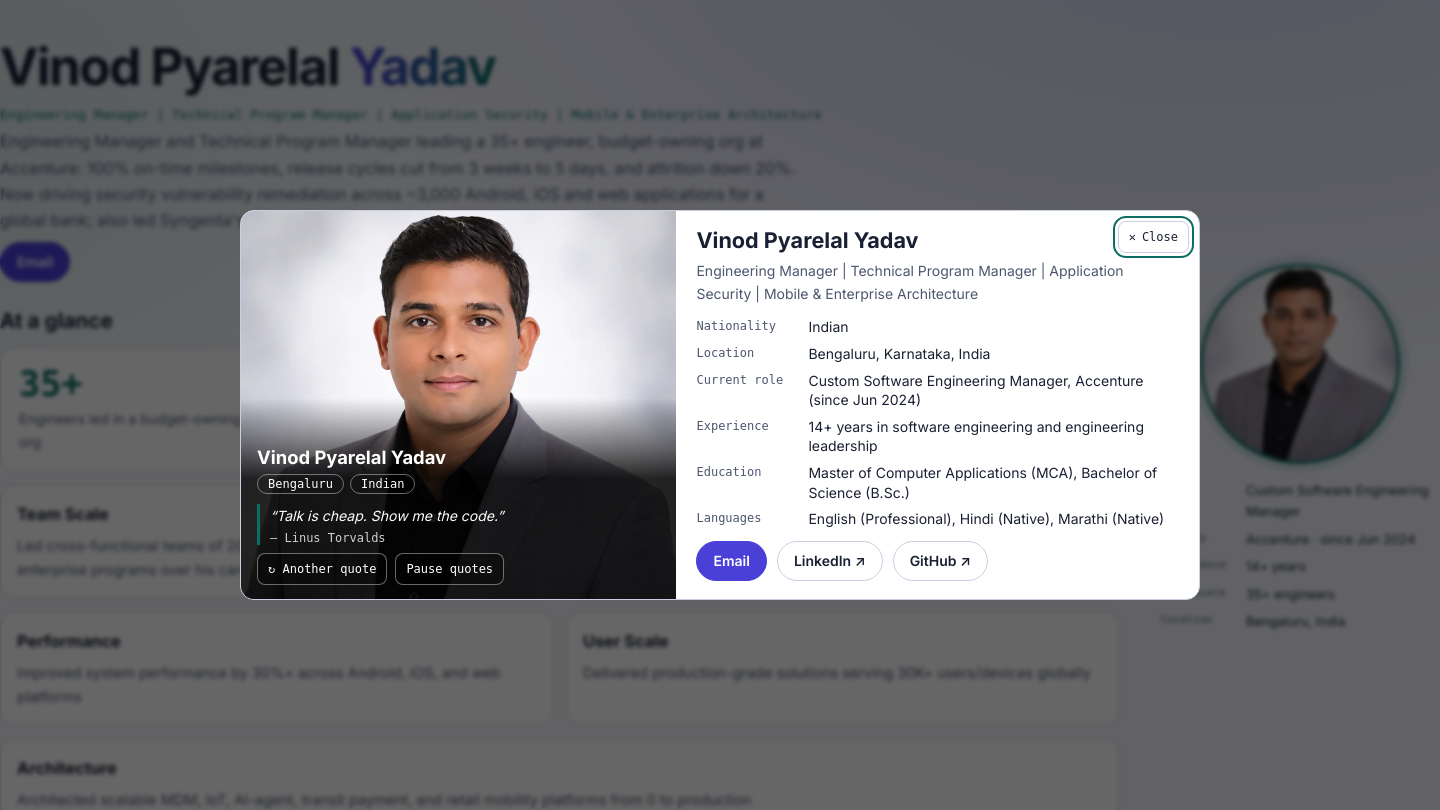
Test: inside the profile dialog and the 30-second brief, Escape closes only the chooser › profile dialog: the first Escape closes the menu, the dialog stays open; the second closes the dialog
This screenshot has width=1440, height=810.
Earlier steps of the test are not shown.
Later steps or results of the test are not shown.
Click the button "Email".
click(732, 561)  # box [696,541,767,581]
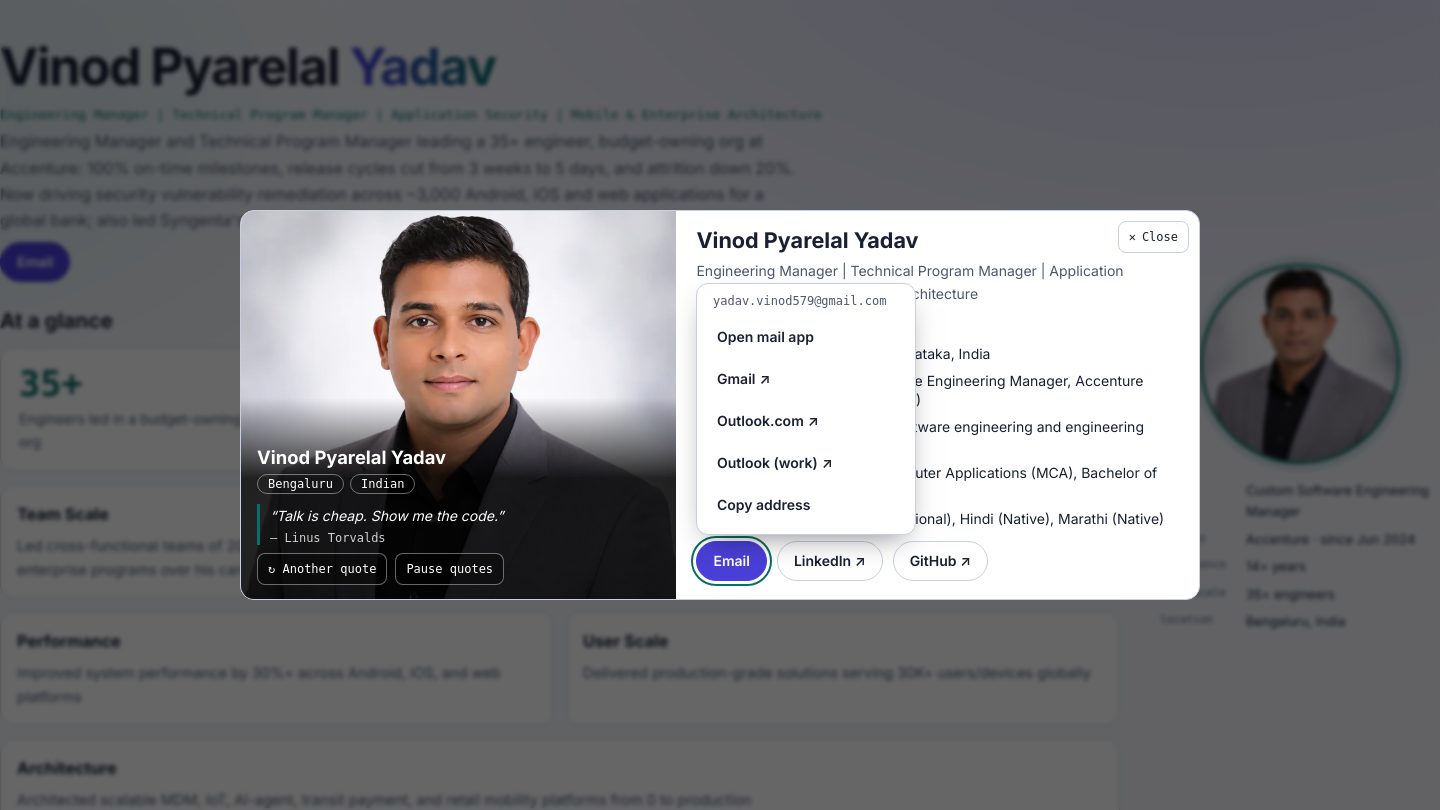
Check: the button "Email" is expanded, box [696,541,767,581]
Press Tab
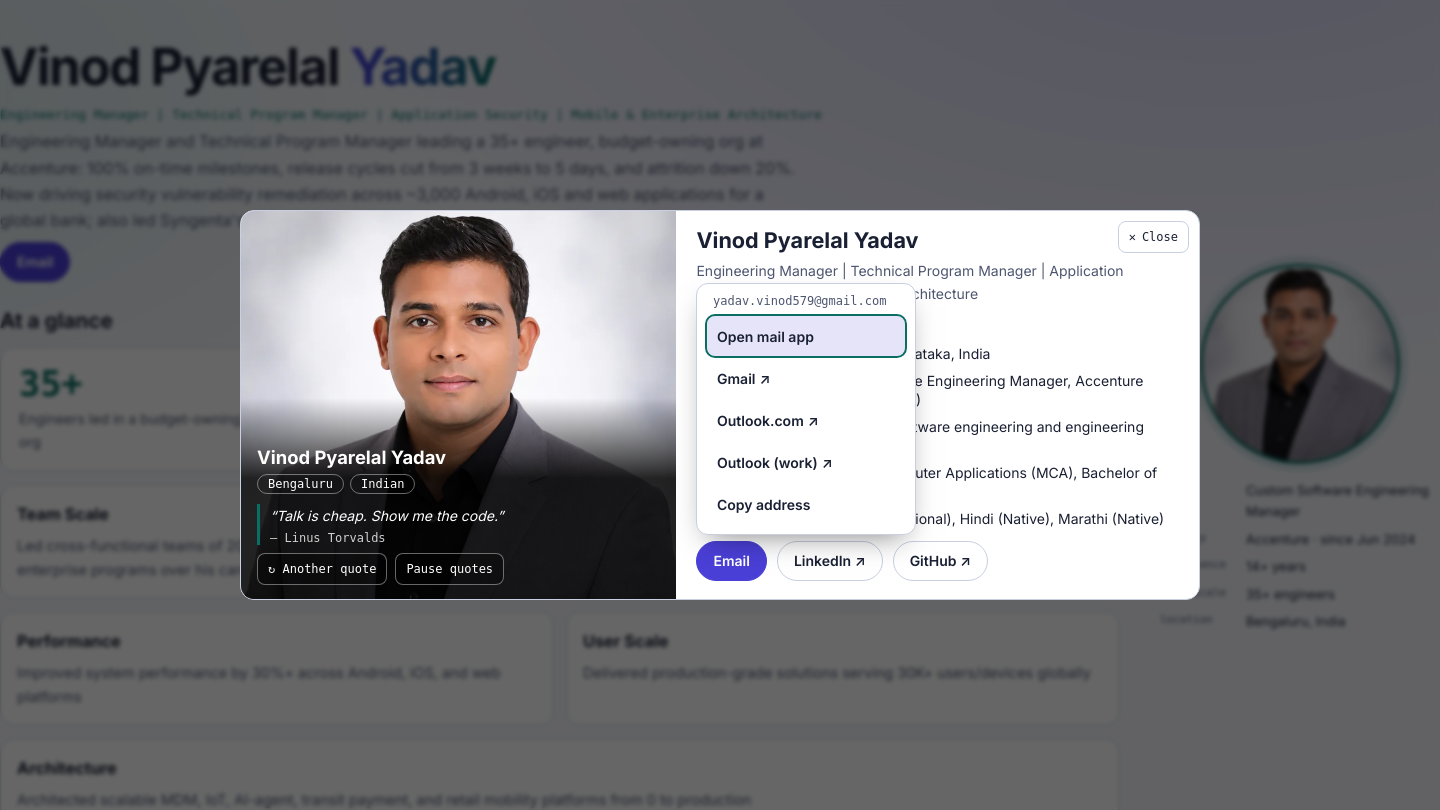
Press Escape
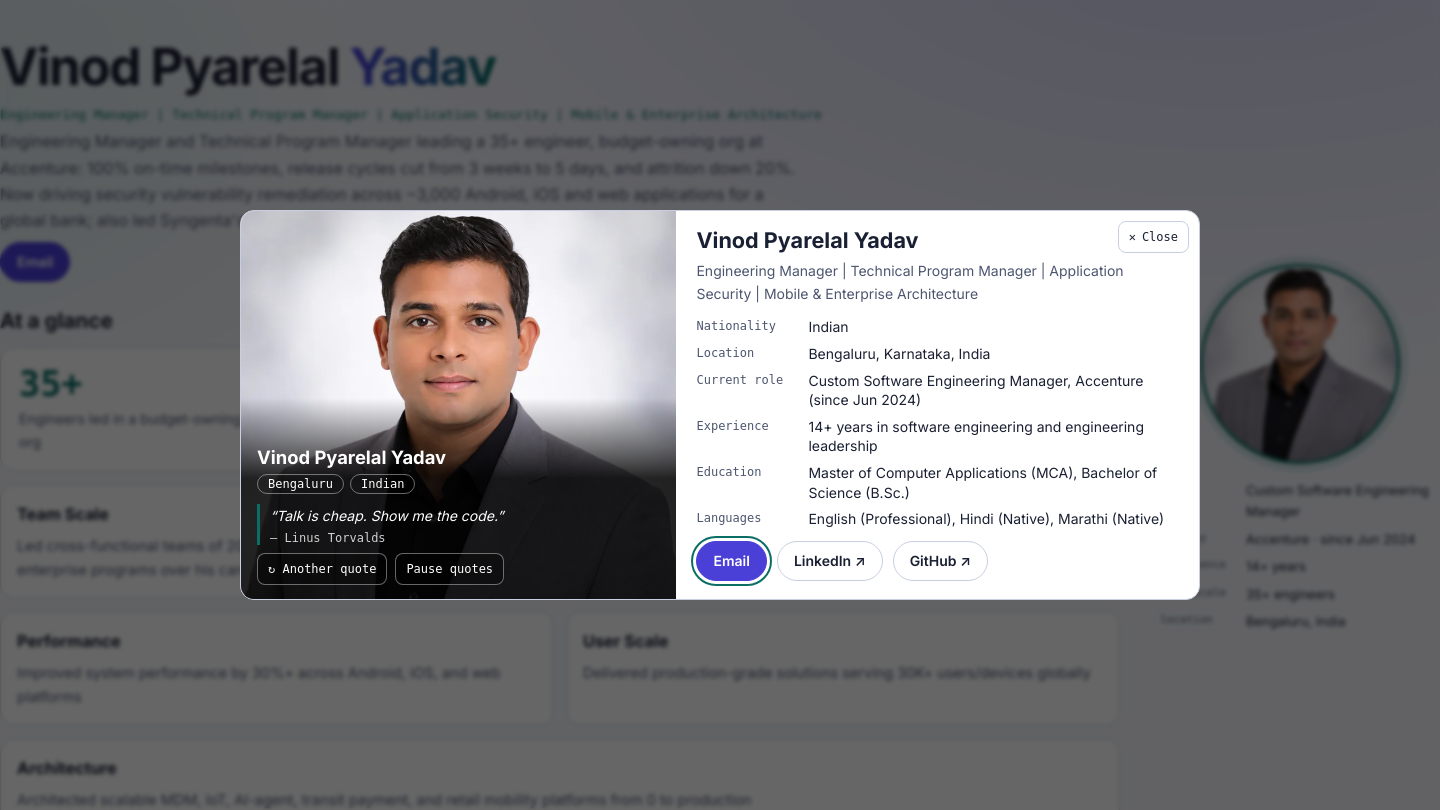
Check: the button "Email" is collapsed, box [696,541,767,581]
